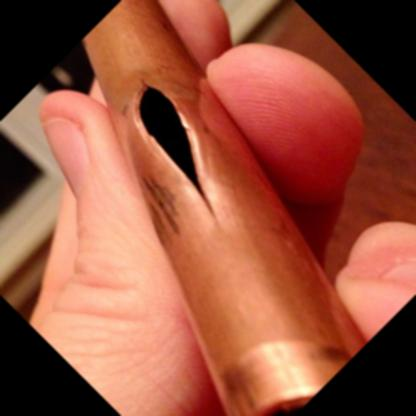burst: (137, 78, 212, 212)
